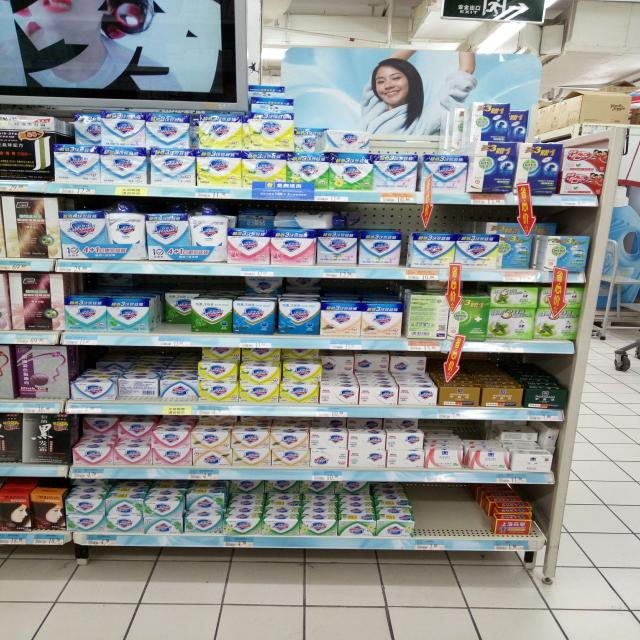void: (440, 486, 465, 552), (468, 486, 494, 549), (417, 483, 437, 551)
